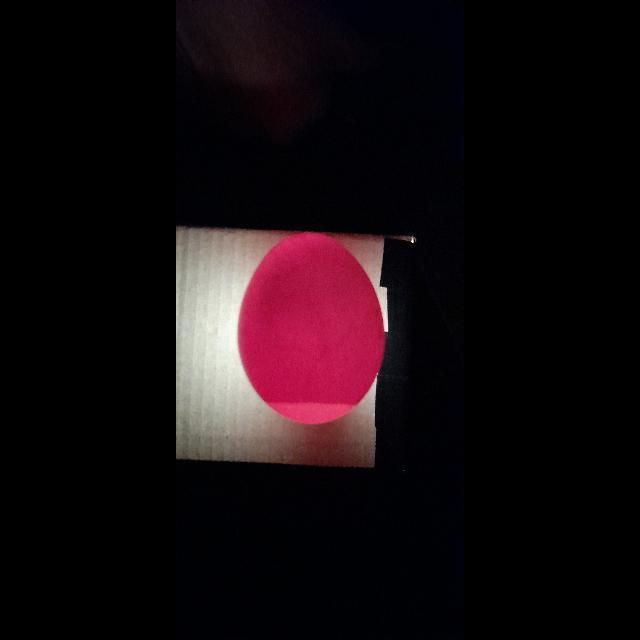Fertile: (241, 234, 383, 424)
